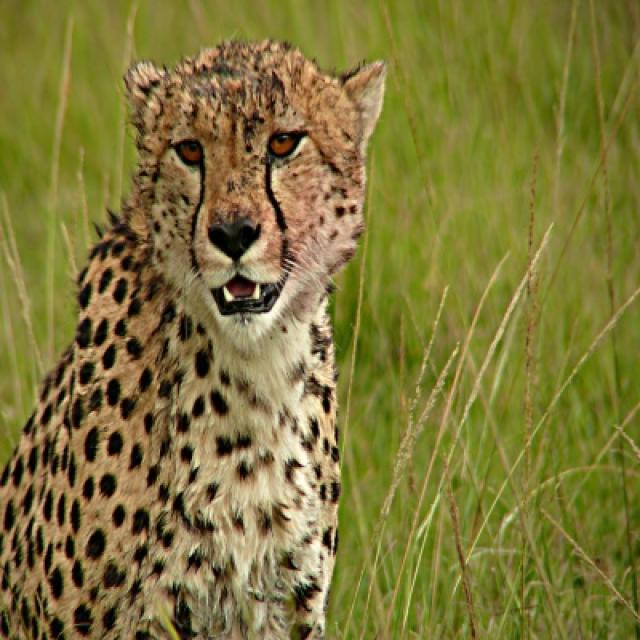Cheetah: (0, 43, 390, 634)
